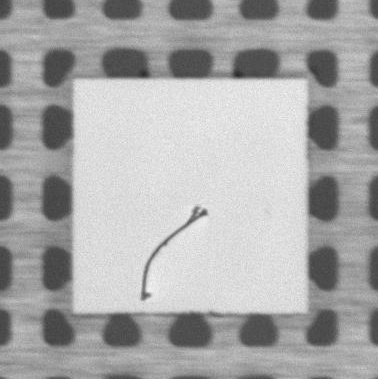DIE_INK: (136, 203, 211, 305)
